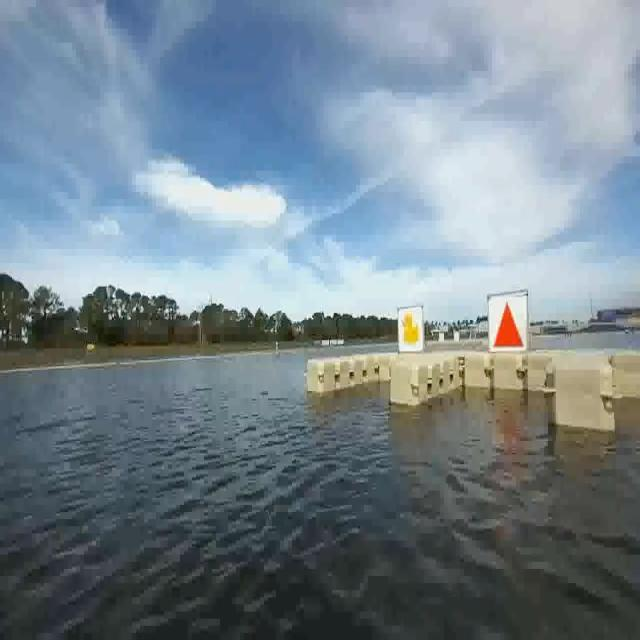red-dot: (485, 292, 530, 363)
yellow-duck: (399, 306, 428, 350)
